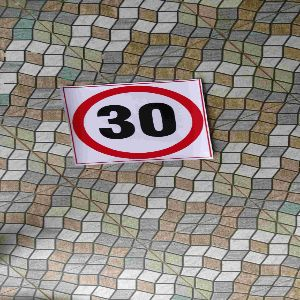speedlimit30: (65, 83, 209, 163)
